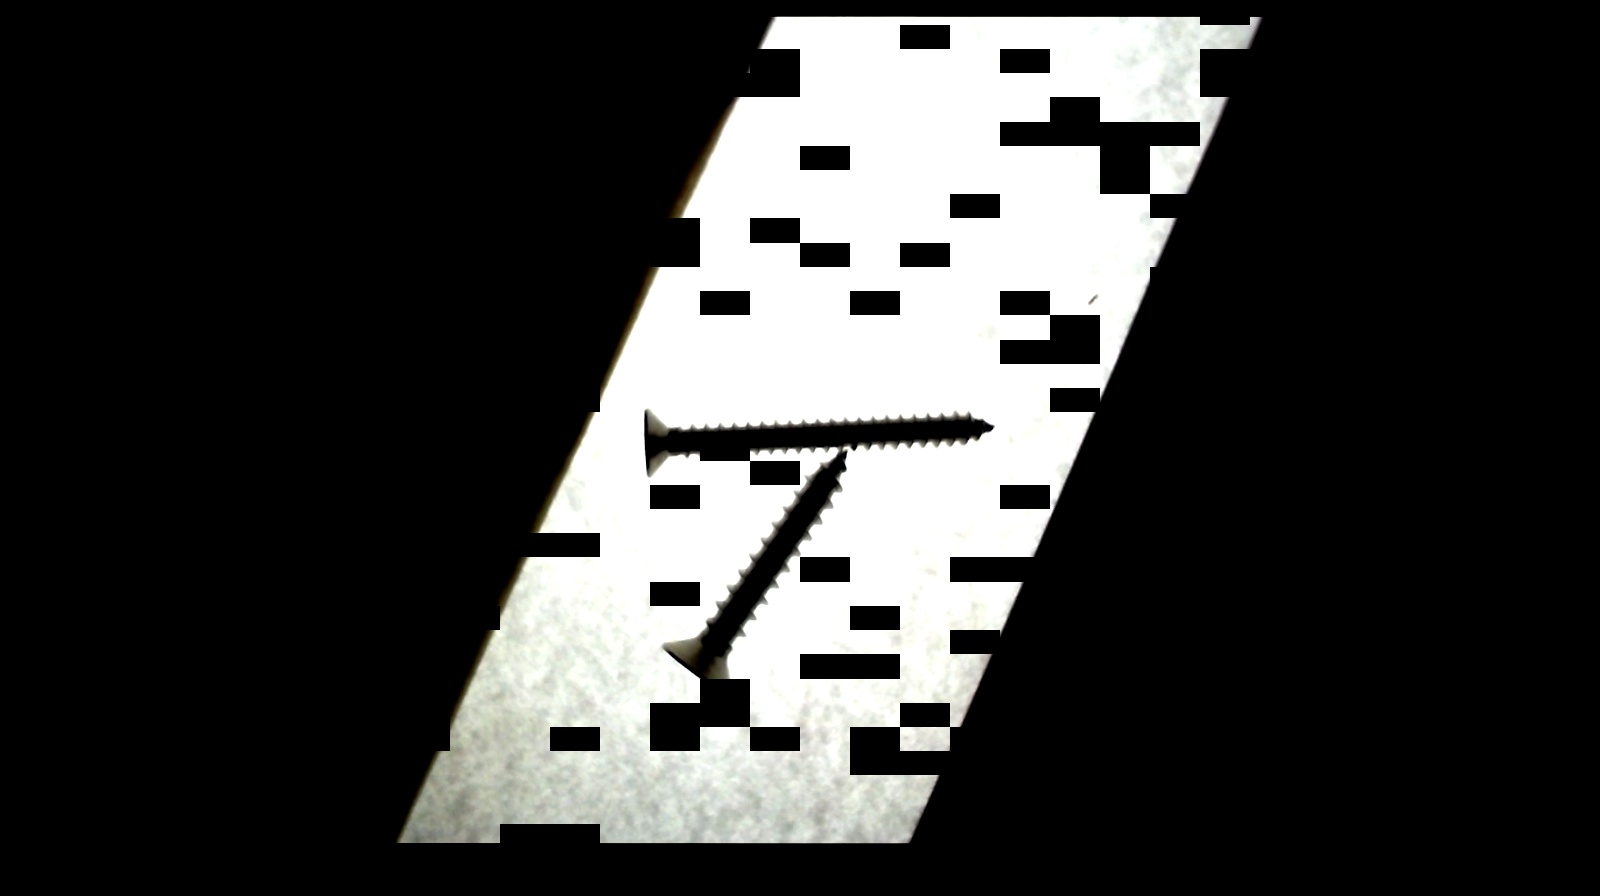S001: (657, 451, 851, 700)
S002: (627, 407, 998, 482)
